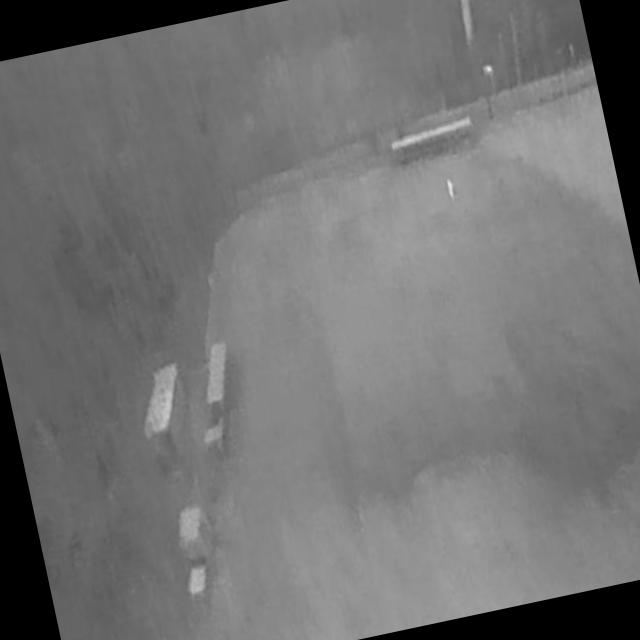person: (445, 179, 459, 203)
